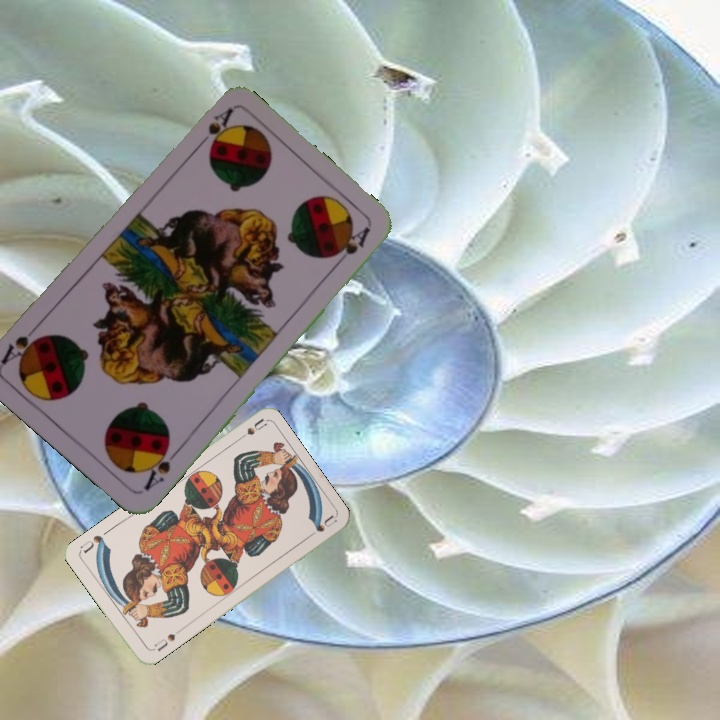SA: (139, 439, 183, 493), (191, 104, 236, 153)
SU: (231, 415, 268, 445), (148, 626, 184, 654)
